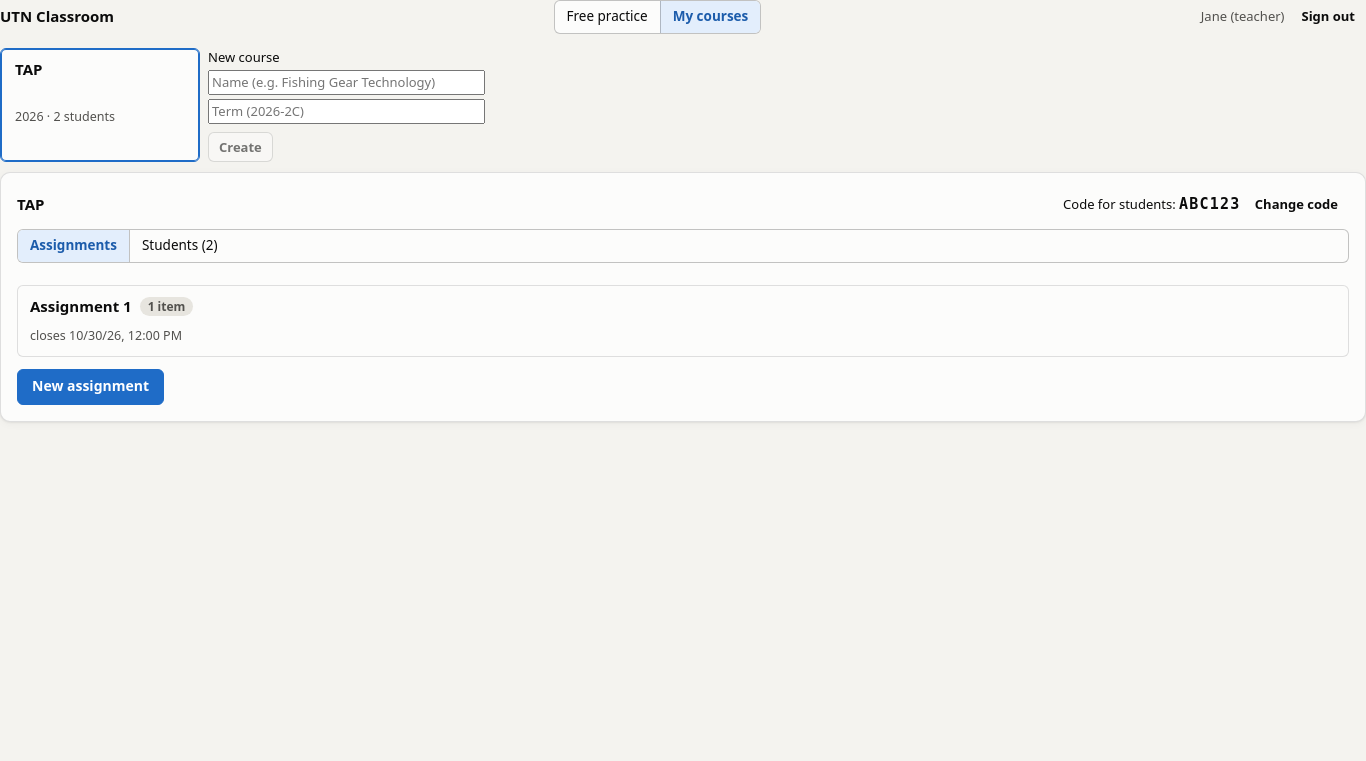
Test: UTN Classroom in English › teacher view: course, assignments and gradebook
The width and height of the screenshot is (1366, 761).
Expected: the text "2026 · 2 students" is shown, left=15, top=108, right=115, bottom=125
Expected: the element with test id "course-code" shows "Code for students: ABC123", left=1063, top=189, right=1349, bottom=219
Click the button "Assignment 1 1 item closes 10/30/26, 12:00 PM" at (81, 306), box left=17, top=285, right=1349, bottom=357
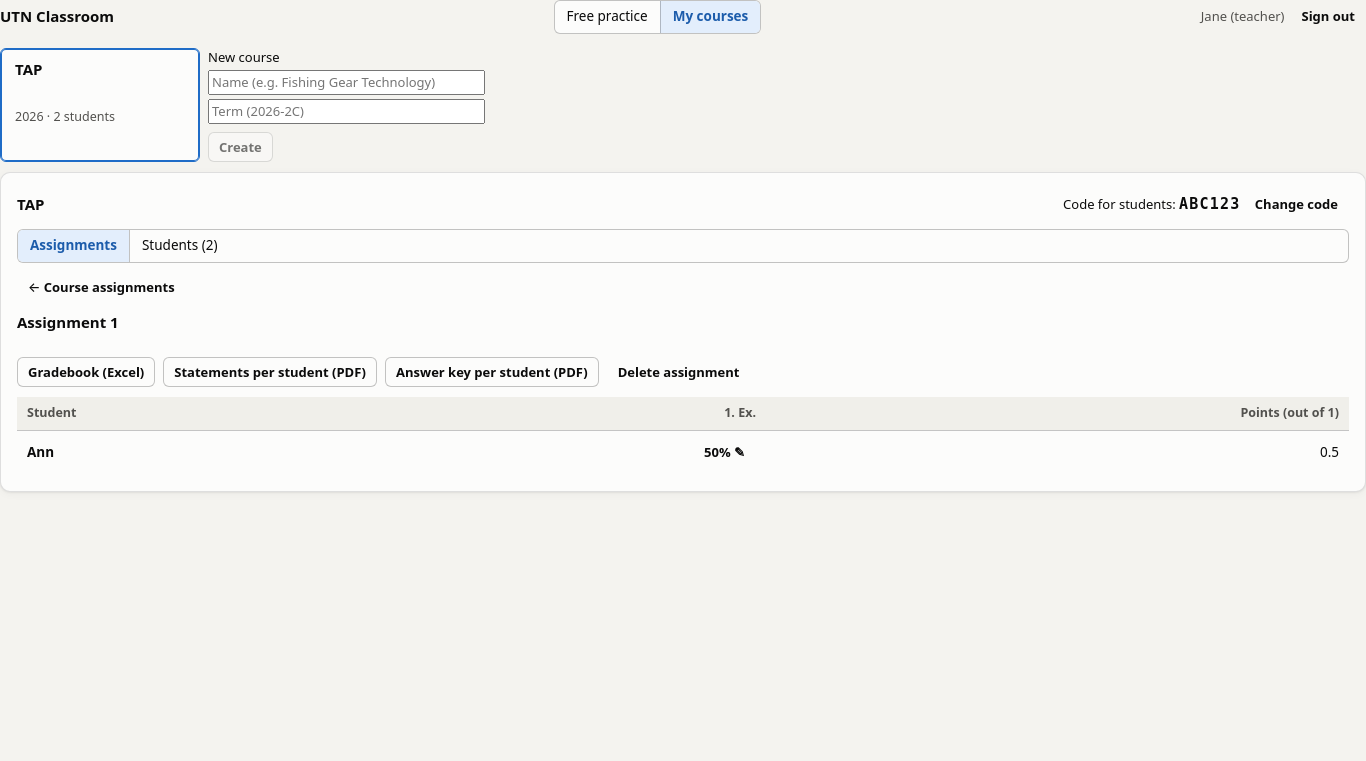
Expected: the button "Gradebook (Excel)" is shown, left=17, top=357, right=155, bottom=387
Expected: the column heading "Points (out of 1)" is shown, left=766, top=397, right=1349, bottom=430
Expected: the button titled "Has open answers to grade" reads "50% ✎", left=693, top=438, right=756, bottom=468
Click the button "← Course assignments" at (101, 288), box left=17, top=273, right=186, bottom=303
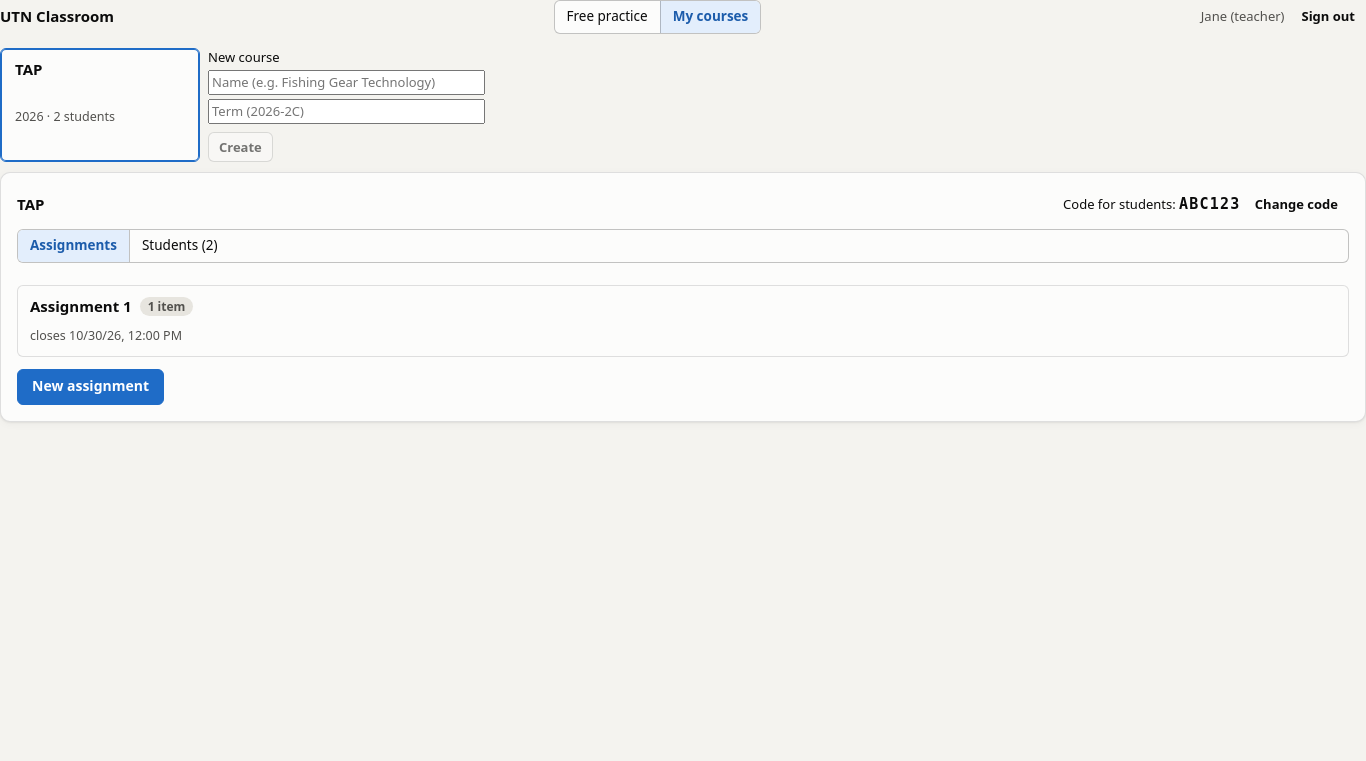
Click the button "New assignment" at (90, 386), box left=17, top=368, right=164, bottom=404
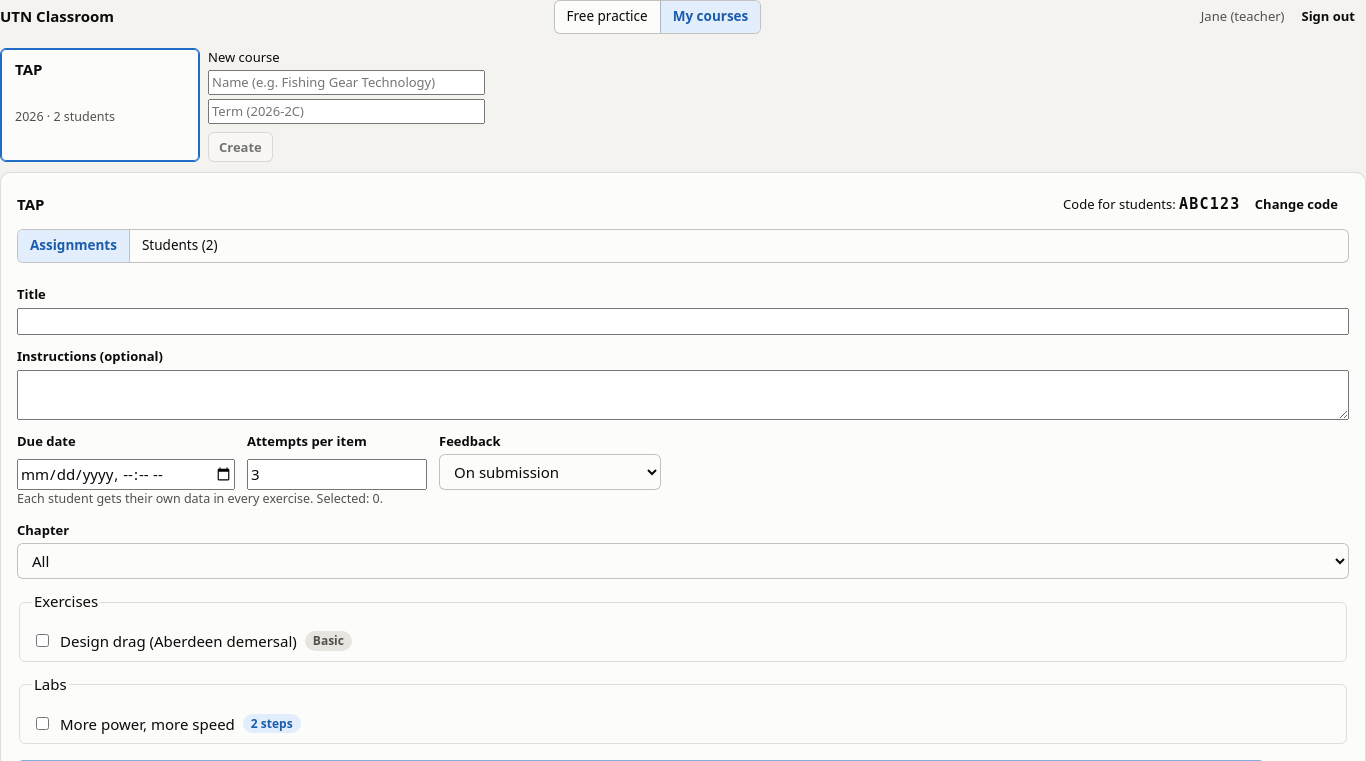
Expected: the field labelled "Due date" is shown, left=17, top=459, right=235, bottom=490
Expected: the text "2 steps" is shown, left=243, top=714, right=301, bottom=733
